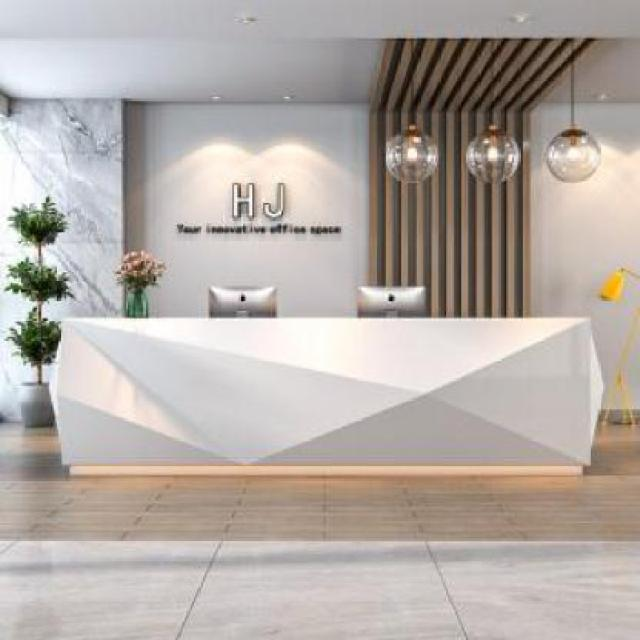frontdesk: (37, 271, 617, 489)
